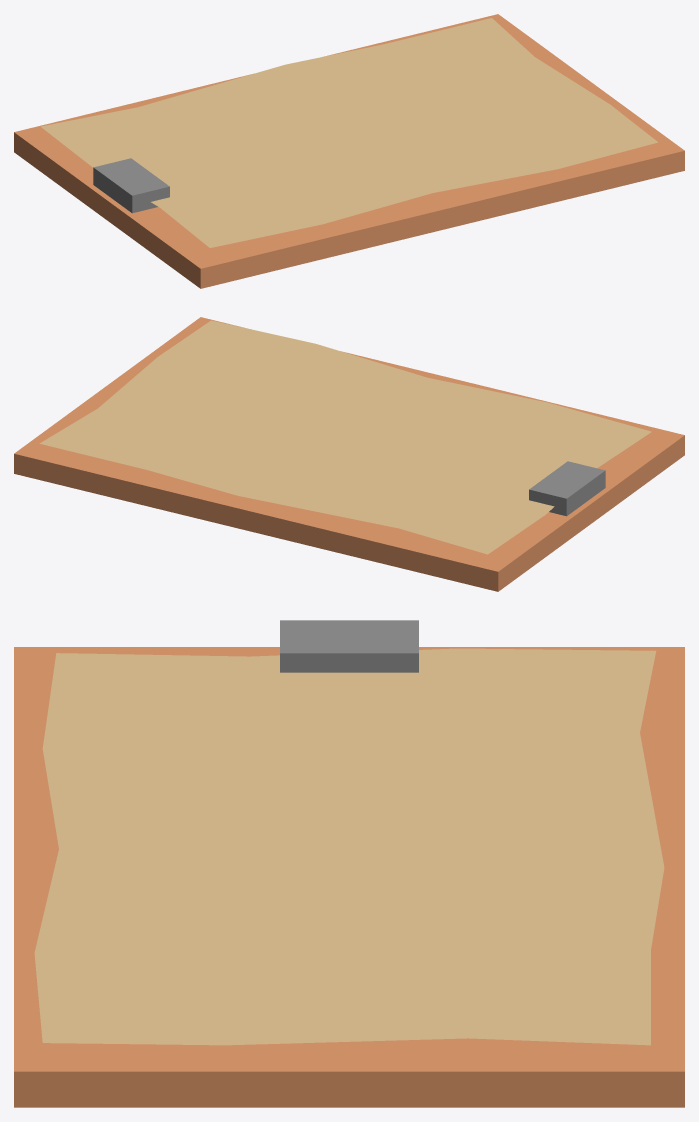
File: clipboard.glb
3 renders of one model, top to bottom at view 1: azimuth 30°, elevation 25°; view 2: azimuth 150°, elevation 25°; view 3: azimuth 270°, elevation 25°, orthographic. The views are drawn at different scales.
Parts seen in each view (by area): view 1: Plane, Cube, Cube.001; view 2: Plane, Cube, Cube.001; view 3: Plane, Cube, Cube.001.
Part boxes in pixels (<box>): Plane: <box>41,18,658,247</box>; Cube: <box>14,14,684,288</box>; Cube.001: <box>93,158,169,213</box>; Plane: <box>39,320,651,554</box>; Cube: <box>14,317,684,591</box>; Cube.001: <box>529,461,605,516</box>; Plane: <box>34,648,664,1045</box>; Cube: <box>14,647,684,1107</box>; Cube.001: <box>280,620,418,672</box>.
Bounding box in the file's own units: 2.99 × 0.2228 × 2.
